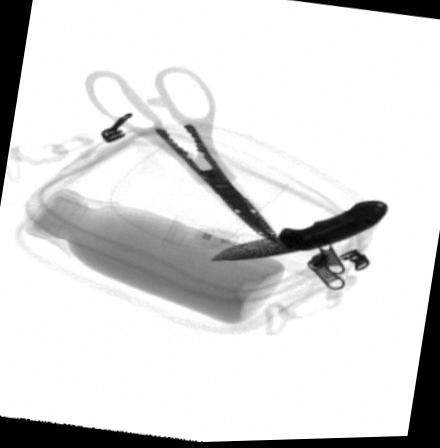Knife: (212, 202, 389, 262)
Scissors: (85, 66, 275, 244)
